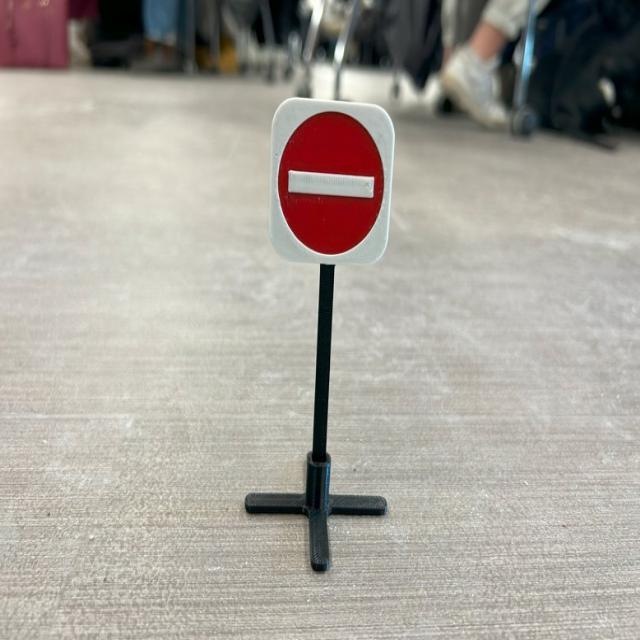sign_noentry: (261, 82, 408, 279)
